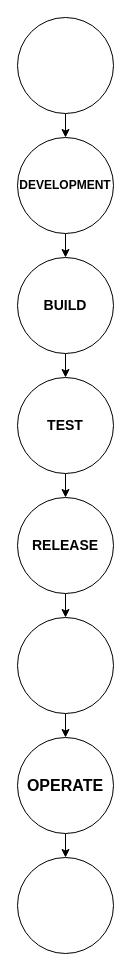
This 131x971 diagram has some shape labels left out. Here are the shapes that lost their labels. From the top down, the centre of each, then its label:
At [65,65]: "PLANNING".
At [65,665]: "DEPLOY".
At [65,905]: "MONITOR".
